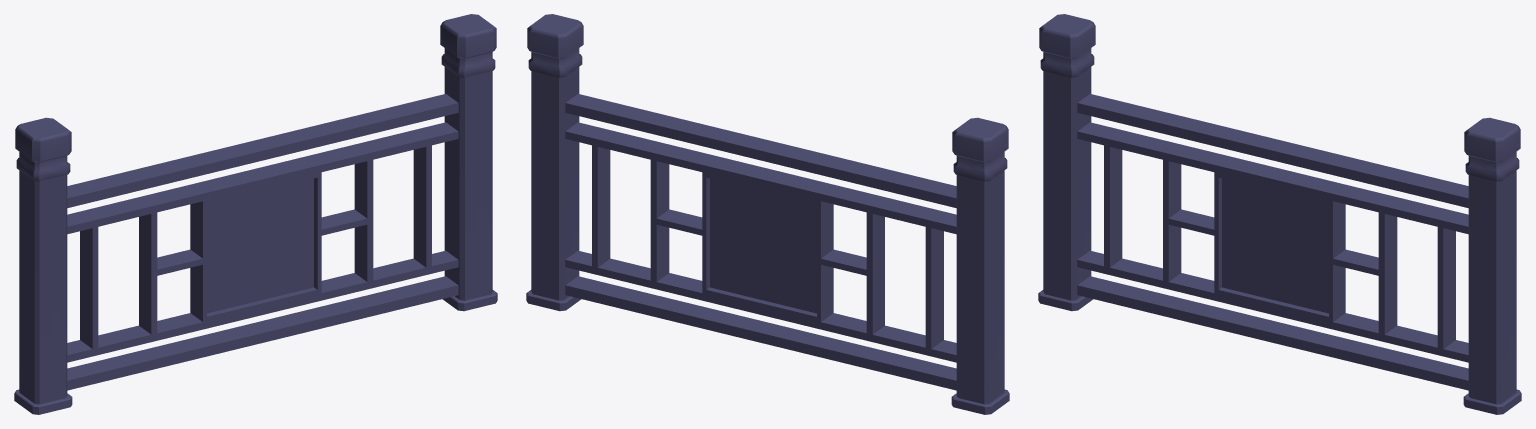
The model's file is model_IronFence_low.fbx.
The picture shows the model from 3 angles, left to right: view 1: azimuth 30°, elevation 25°; view 2: azimuth 150°, elevation 25°; view 3: azimuth 330°, elevation 25°; orthographic projection.
Visible parts, largest first — view 1: pasted__pCube47, pilar, pilar3, pasted__pCube108, pasted__pCube107; view 2: pasted__pCube47, pilar, pilar3, pasted__pCube108, pasted__pCube107; view 3: pasted__pCube47, pilar3, pilar, pasted__pCube108, pasted__pCube107.
Boxes of the visible parts, x1,y1,x2,y2 form: pasted__pCube47: (67,122,458,362); pilar: (14,117,72,414); pilar3: (440,14,497,311); pasted__pCube108: (67,276,458,390); pasted__pCube107: (67,94,458,207); pasted__pCube47: (565,122,956,362); pilar: (951,117,1009,414); pilar3: (526,14,583,311); pasted__pCube108: (565,276,956,390); pasted__pCube107: (565,94,956,207); pasted__pCube47: (1077,122,1468,362); pilar3: (1463,117,1521,414); pilar: (1038,14,1095,311); pasted__pCube108: (1077,276,1468,390); pasted__pCube107: (1077,94,1468,207).
Bounding box in the file's own units: 213 × 120 × 18.2.
